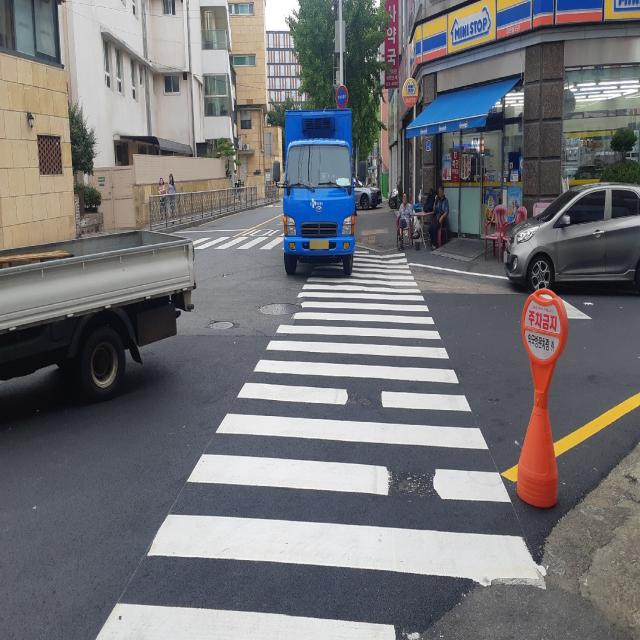횡단보도: (93, 248, 548, 640), (187, 230, 282, 250)
